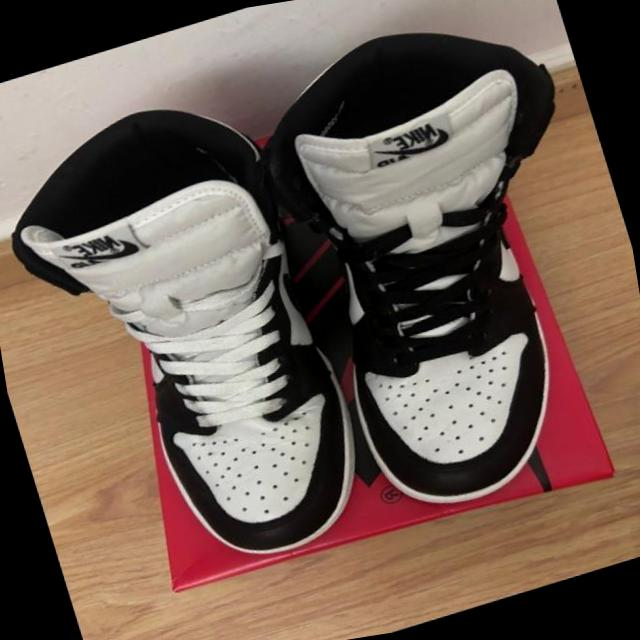nike_original_jordan: (0, 66, 394, 612), (243, 0, 640, 537)
